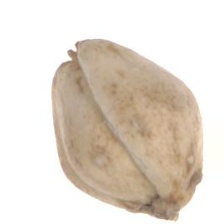L1: (134, 192, 192, 221), (54, 38, 84, 81)
L2: (51, 38, 204, 222)
